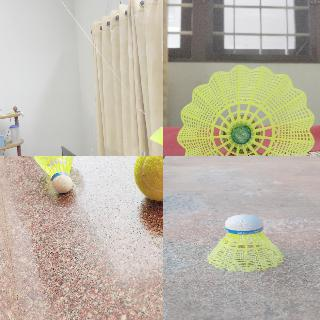shuttlecock: (176, 65, 314, 155), (208, 214, 286, 270), (31, 156, 76, 194), (149, 126, 162, 150)
